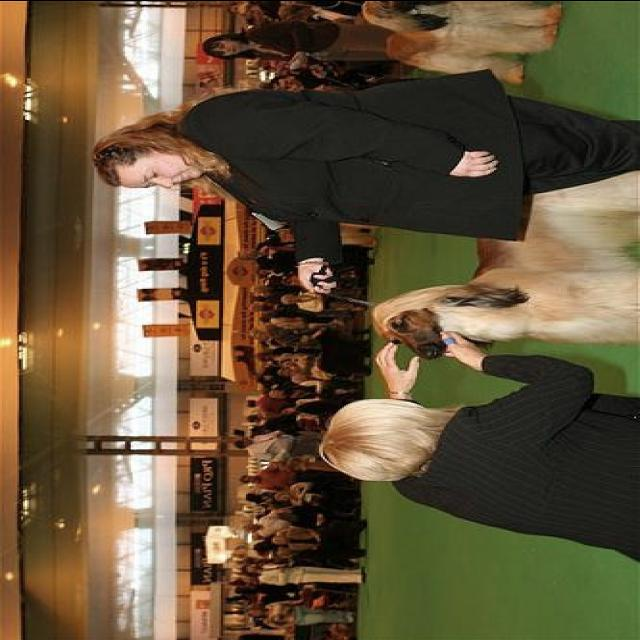afghan_hound: (369, 164, 638, 364), (360, 0, 564, 86)
